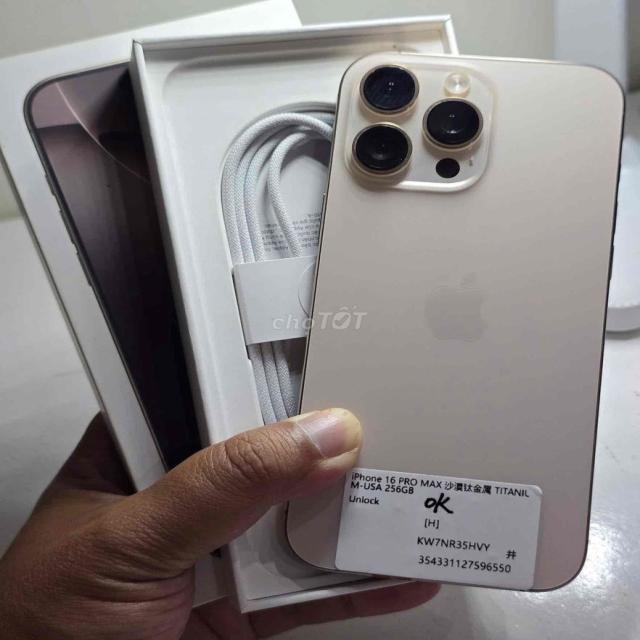gen_16: (283, 43, 631, 599)
